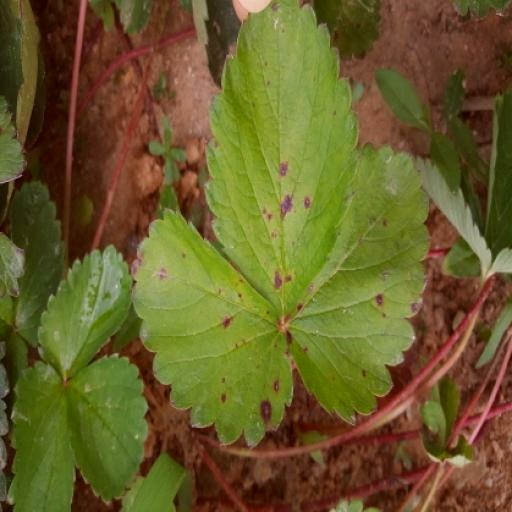Leaf Spot: (202, 187, 360, 511), (289, 85, 432, 373), (131, 61, 294, 305)
